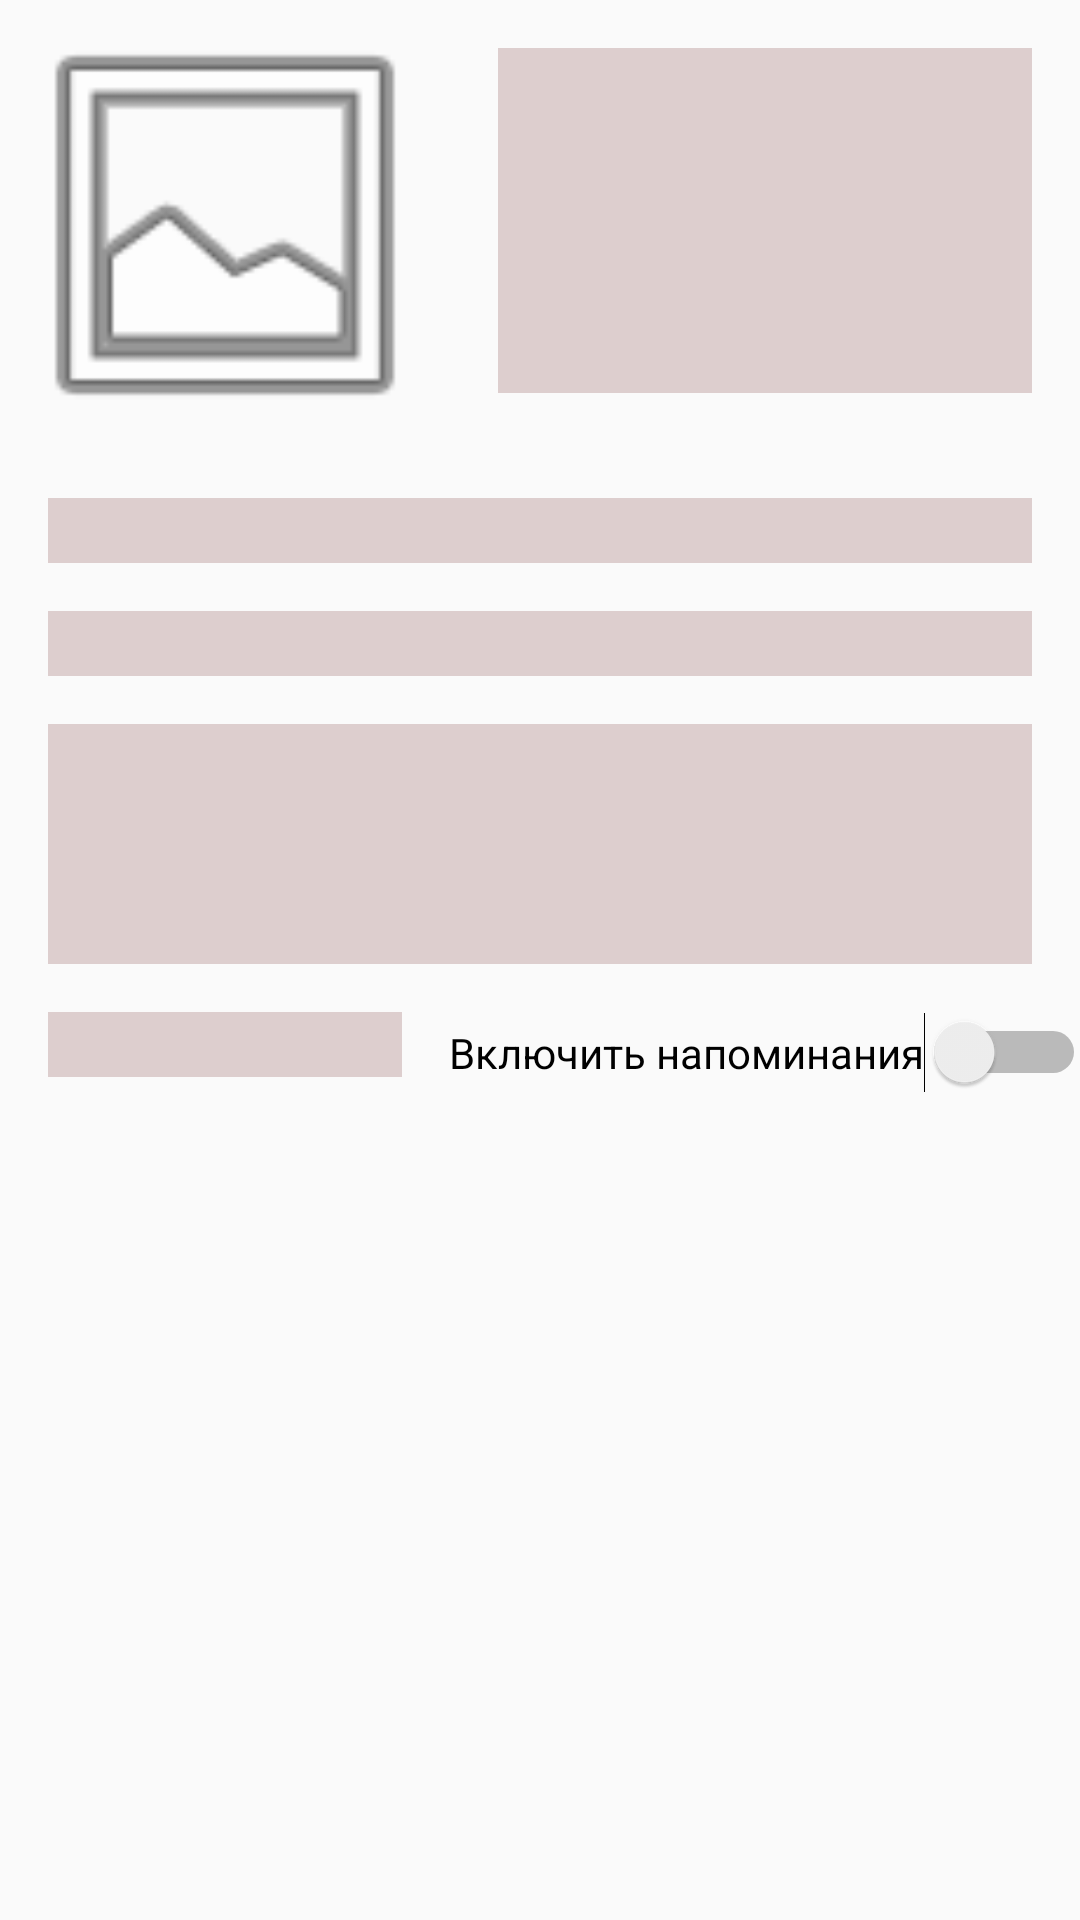

Icons on this 1080w x 1920h Android screen, each with the point to tap as point (x, y):
gallery: point (225, 225)
